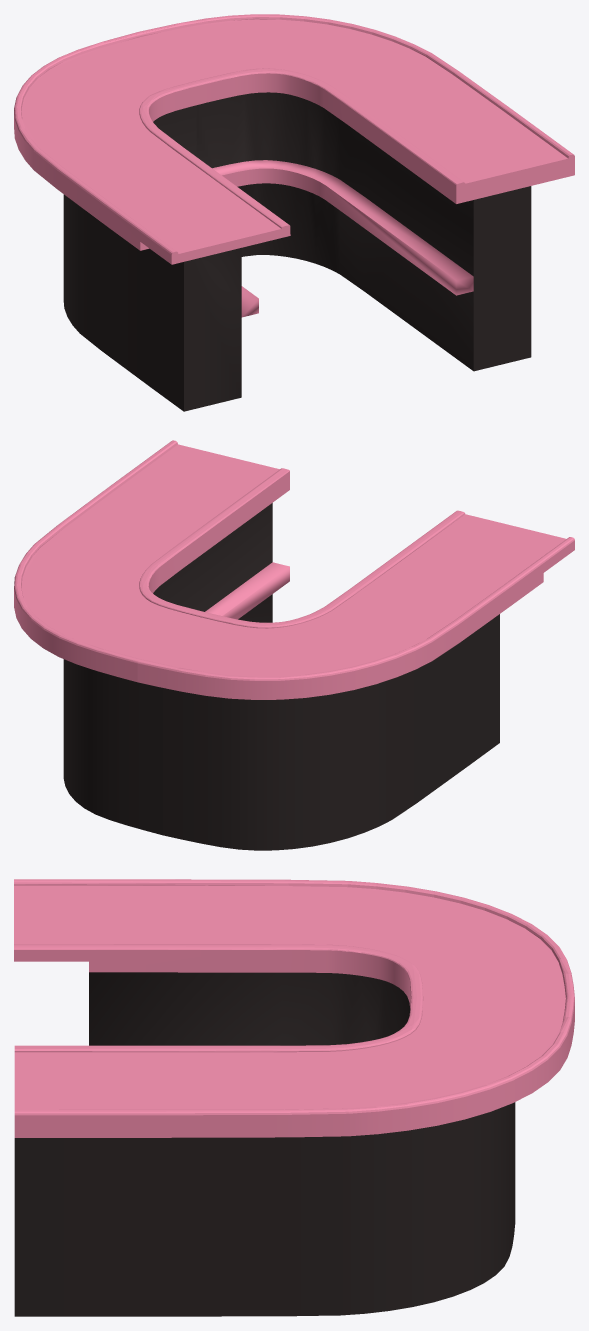
File: 27cd8392-ed44-4739-8aef-c58a63c7f09c.glb
3 renders of one model, top to bottom at view 1: azimuth 30°, elevation 25°; view 2: azimuth 150°, elevation 25°; view 3: azimuth 270°, elevation 25°, orthographic. The views are drawn at different scales.
Parts seen in each view (by area): view 1: RoundBar.014; view 2: RoundBar.014; view 3: RoundBar.014.
Boxes of the visible parts, x1=… form: RoundBar.014: x1=14, y1=14, x2=574, y2=411; RoundBar.014: x1=14, y1=440, x2=574, y2=850; RoundBar.014: x1=14, y1=879, x2=574, y2=1316.
Size of what is drawn, in the model's own units: 2.42 by 1.1 by 2.45.
Materials: 1 (1 with a texture image).
